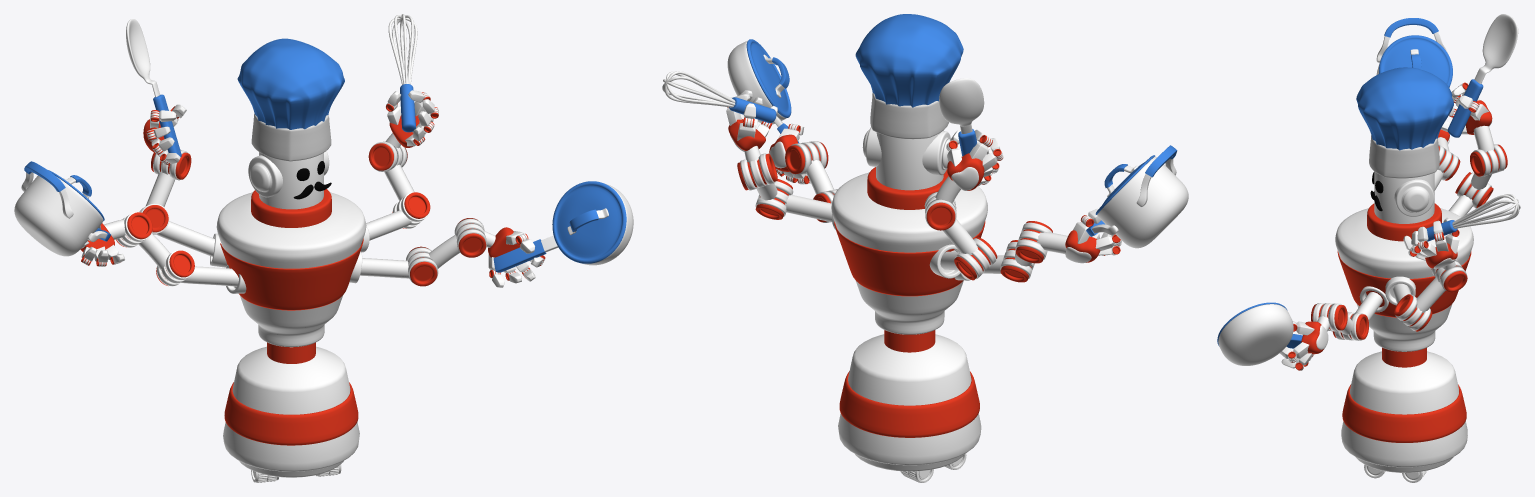
Rendered from cyber-eye-3d-animated-icon-1366187729752.glb.
3 renders of one model, left to right at view 1: azimuth 30°, elevation 25°; view 2: azimuth 150°, elevation 25°; view 3: azimuth 270°, elevation 25°, orthographic. The views are drawn at different scales.
Visible parts, largest first — view 1: Cylinder.263, Cylinder.261, Cube.208, Cylinder.327, Cylinder.325, Cylinder.282, Cylinder.326, Cube.205, Cylinder.246, NurbsPath.063, Cylinder.247, NurbsPath.062 (+15 smaller); view 2: Cylinder.263, Cylinder.261, Cube.208, Cylinder.325, Cylinder.326, Cylinder.327, Cylinder.246, Cube.205, Plane.044, Cylinder.282, Cylinder.247, Cylinder.264 (+15 smaller); view 3: Cylinder.263, Cylinder.261, Cube.208, Cylinder.326, Cylinder.283, Cube.205, Cylinder.324, Cylinder.327, Plane.044, Cylinder.246, Cylinder.264, Cylinder.247 (+18 smaller).
Boxes of the visible parts, bbox=[...] form: Cylinder.263: bbox=[223, 346, 359, 477]; Cylinder.261: bbox=[216, 192, 366, 347]; Cube.208: bbox=[237, 38, 344, 129]; Cylinder.327: bbox=[220, 238, 363, 310]; Cylinder.325: bbox=[14, 172, 107, 256]; Cylinder.282: bbox=[552, 181, 626, 263]; Cylinder.326: bbox=[224, 382, 358, 445]; Cube.205: bbox=[251, 114, 331, 161]; Cylinder.246: bbox=[259, 152, 323, 209]; NurbsPath.063: bbox=[104, 219, 238, 286]; Cylinder.247: bbox=[251, 189, 331, 227]; NurbsPath.062: bbox=[145, 172, 214, 256]; Cylinder.263: bbox=[838, 334, 981, 471]; Cylinder.261: bbox=[831, 172, 987, 334]; Cube.208: bbox=[855, 14, 963, 107]; Cylinder.325: bbox=[1092, 156, 1188, 248]; Cylinder.326: bbox=[839, 371, 979, 437]; Cylinder.327: bbox=[834, 221, 985, 296]; Cylinder.246: bbox=[876, 130, 943, 190]; Cube.205: bbox=[870, 93, 948, 139]; Plane.044: bbox=[939, 78, 984, 133]; Cylinder.282: bbox=[746, 39, 791, 117]; Cylinder.247: bbox=[867, 167, 948, 209]; Cylinder.264: bbox=[862, 127, 950, 175]; Cylinder.263: bbox=[1341, 351, 1467, 472]; Cylinder.261: bbox=[1335, 208, 1473, 351]; Cube.208: bbox=[1356, 67, 1453, 150]; Cylinder.326: bbox=[1342, 384, 1466, 442]; Cylinder.283: bbox=[1218, 304, 1293, 365]; Cube.205: bbox=[1369, 135, 1439, 178]; Cylinder.324: bbox=[1379, 35, 1452, 87]; Cylinder.327: bbox=[1337, 251, 1471, 317]; Plane.044: bbox=[1474, 14, 1518, 83]; Cylinder.246: bbox=[1374, 171, 1434, 223]; Cylinder.264: bbox=[1394, 179, 1434, 216]; Cylinder.247: bbox=[1367, 203, 1441, 241].
Bounding box in the file's own units: 10.19 × 8.15 × 5.58.
